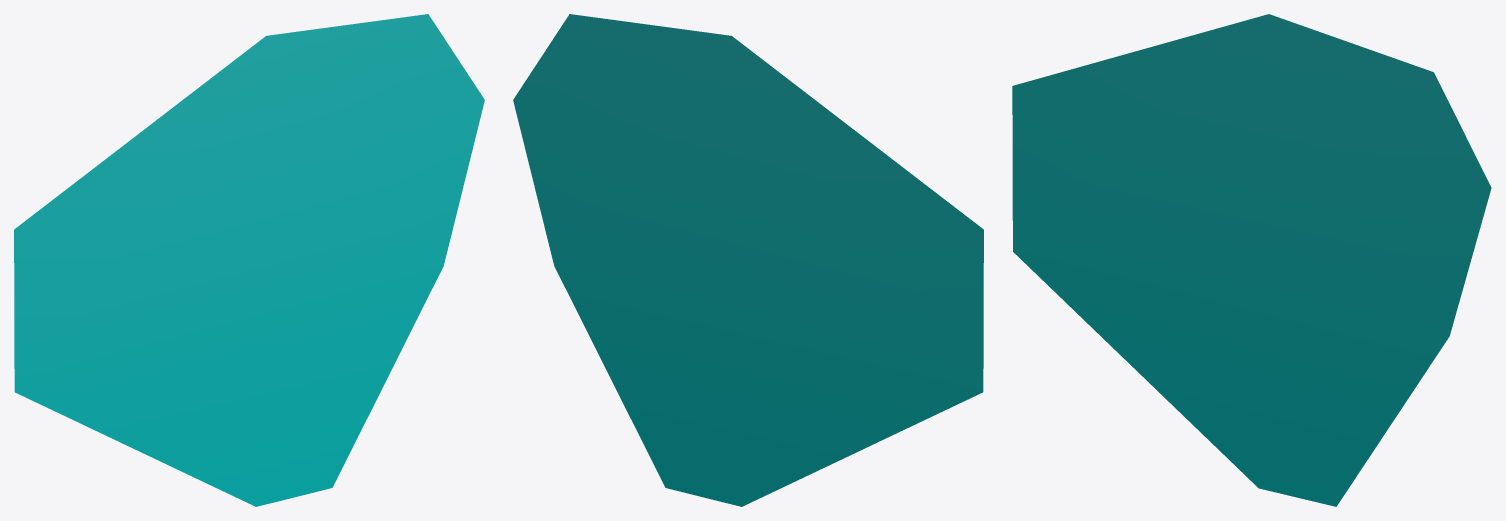
File: Wild_Grass_sjliZ_Mid_sjliZ_VarB_LOD2.fbx
3 views of the same model, side by side, from view 1: azimuth 30°, elevation 25°; view 2: azimuth 150°, elevation 25°; view 3: azimuth 330°, elevation 25° (orthographic).
Parts seen in each view (by area): view 1: _1c68_VarB_LOD3; view 2: _1c68_VarB_LOD3; view 3: _1c68_VarB_LOD3.
Part boxes in pixels (x1,y1,x2,y2): _1c68_VarB_LOD3: [14, 14, 484, 506]; _1c68_VarB_LOD3: [513, 14, 983, 506]; _1c68_VarB_LOD3: [1012, 14, 1491, 506].
Bounding box in the file's own units: 52.27 × 49.71 × 0.
